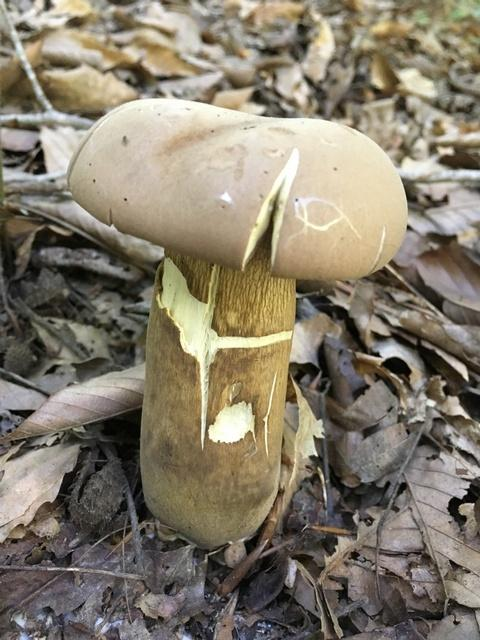Non-edible Mushroom: (64, 96, 409, 550)
